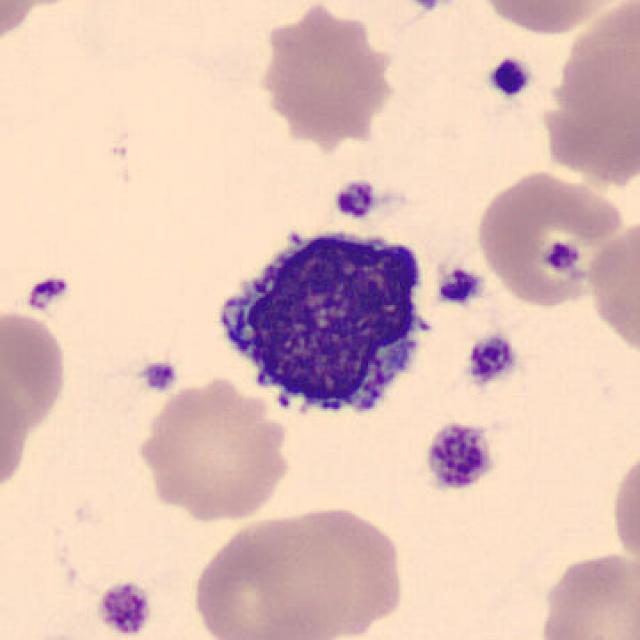Lymphocyte: (201, 213, 444, 438)
Platelets: (420, 418, 498, 494), (94, 576, 154, 640), (462, 330, 521, 390), (434, 262, 487, 308), (485, 53, 535, 100), (21, 271, 73, 314), (331, 176, 378, 222), (135, 356, 181, 397), (542, 238, 585, 275), (395, 0, 455, 14)
RBC: (130, 372, 298, 525), (254, 6, 398, 162), (471, 166, 626, 310), (188, 509, 355, 640), (265, 497, 409, 640), (535, 0, 640, 192), (0, 303, 71, 443), (534, 545, 638, 640), (583, 214, 638, 368), (471, 0, 631, 37), (0, 347, 34, 506), (608, 442, 640, 576), (0, 0, 71, 53)
